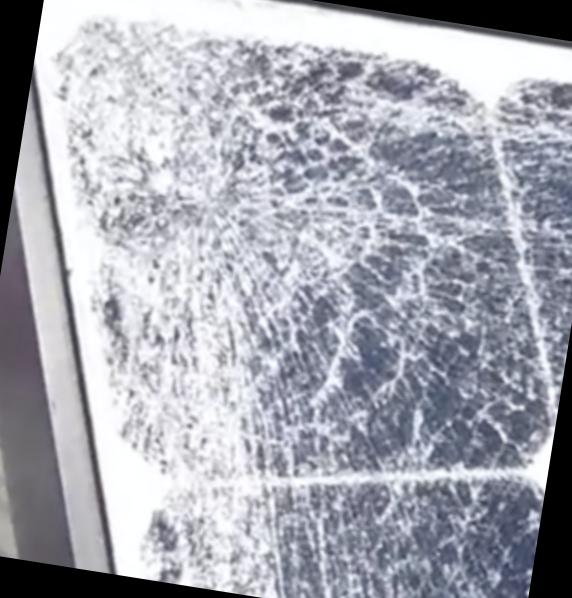Crack: (17, 14, 452, 456)
